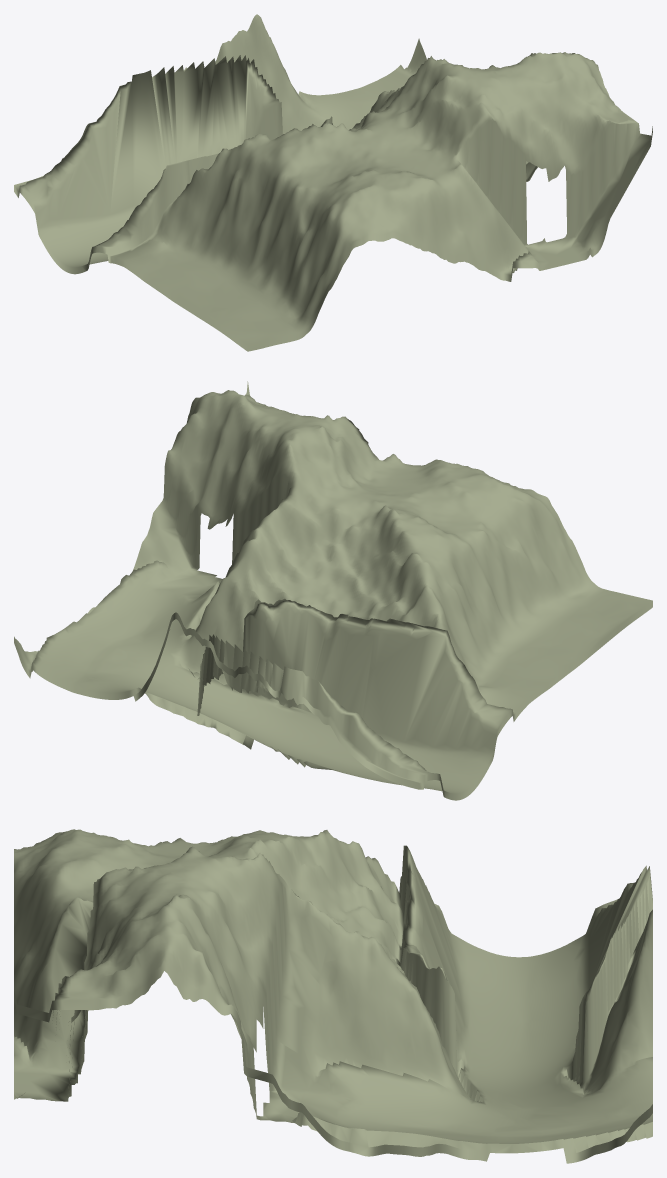
The model's file is terrain_r1_c2_lod0.glb.
The picture shows the model from 3 angles, top to bottom: view 1: azimuth 30°, elevation 25°; view 2: azimuth 150°, elevation 25°; view 3: azimuth 270°, elevation 25°; orthographic projection. The views are drawn at different scales.
Parts seen in each view (by area): view 1: terrain_r1_c2; view 2: terrain_r1_c2; view 3: terrain_r1_c2.
Part boxes in pixels (x1=…): terrain_r1_c2: x1=14, y1=14, x2=652, y2=351; terrain_r1_c2: x1=14, y1=381, x2=652, y2=800; terrain_r1_c2: x1=14, y1=829, x2=652, y2=1163.
Size of the model in its own units: 50 by 26.36 by 50.
